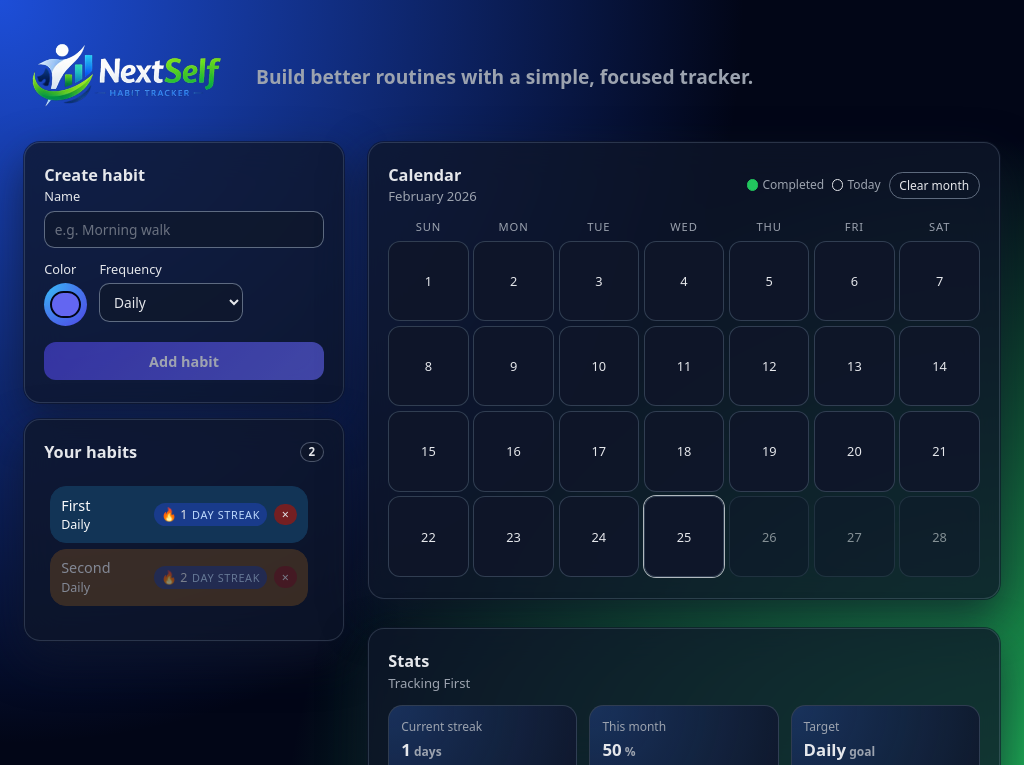
Test: App › allows selecting a habit from the list
This screenshot has width=1024, height=765.
Click the text "Second" at (86, 568), box [61,559,111,578]
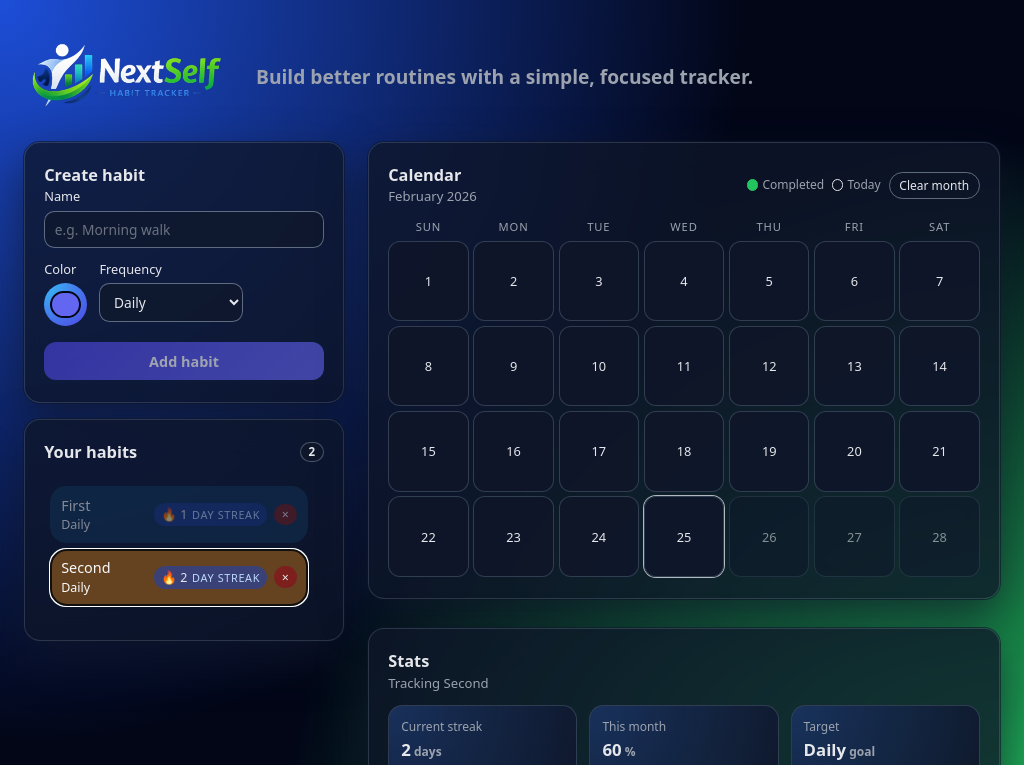
Now the text "Tracking Second" is shown, box [388,674,489,694]
